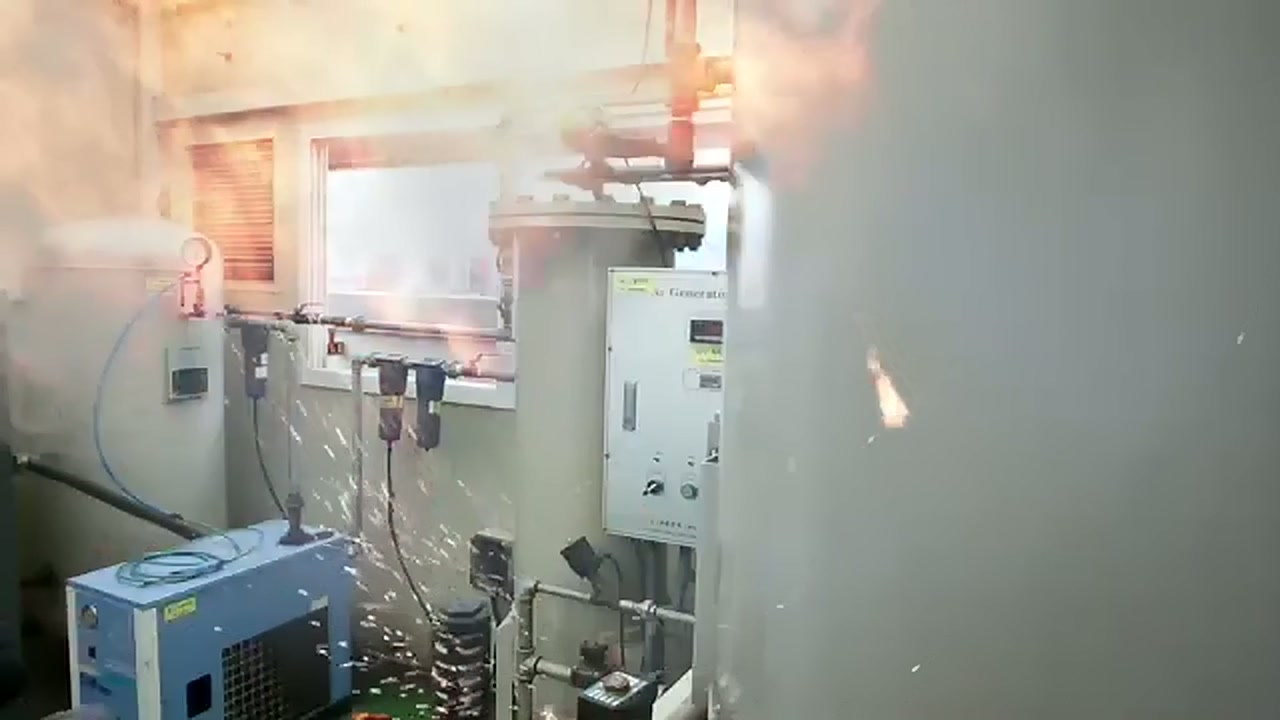fire: (192, 72, 1088, 360)
